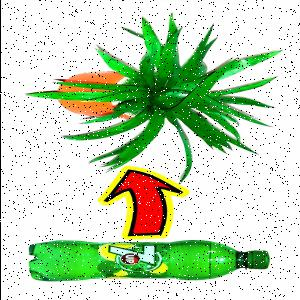Plastic-bottle: (27, 240, 270, 282)
